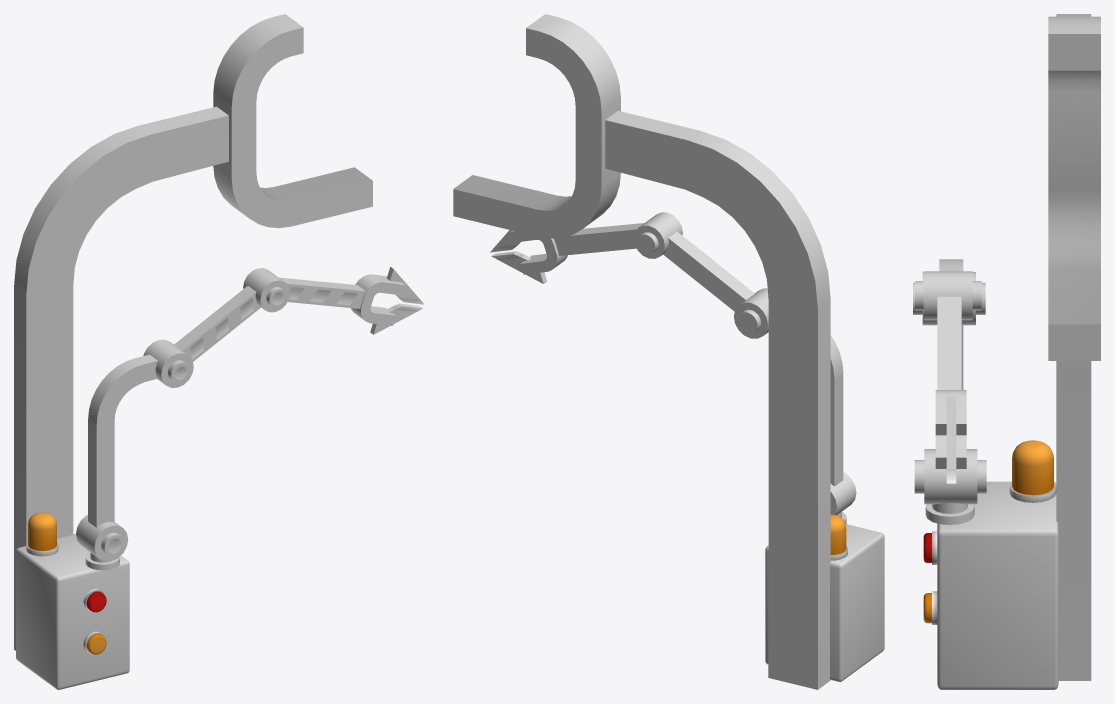
File: baby_boss_cevre_modelleri_robotkol.fbx
3 views of the same model, side by side, from view 1: azimuth 30°, elevation 25°; view 2: azimuth 150°, elevation 25°; view 3: azimuth 270°, elevation 25° (orthographic). The views are drawn at different scales.
Visible parts, largest first — view 1: baby_boss_robot_tabela, baby_boss_robot_kutu, baby_boss_robot_kol.002, baby_boss_robot_kol.005, baby_boss_robot_kol_yuvarlak.002, baby_boss_robot_kol, baby_boss_robot_kol_yuvarlak.001, baby_boss_robot_kol.003, baby_boss_robot_kol_yuvarlak, baby_boss_robot_siren; view 2: baby_boss_robot_tabela, baby_boss_robot_kutu, baby_boss_robot_kol.005, baby_boss_robot_kol, baby_boss_robot_kol.002, baby_boss_robot_kol_yuvarlak, baby_boss_robot_kol_yuvarlak.001, baby_boss_robot_kol.003, baby_boss_robot_kol_yuvarlak.002, baby_boss_robot_siren; view 3: baby_boss_robot_tabela, baby_boss_robot_kutu, baby_boss_robot_kol_yuvarlak.002, baby_boss_robot_siren, baby_boss_robot_kol_yuvarlak, baby_boss_robot_kol, baby_boss_robot_kol.003, baby_boss_robot_kol_kıskac1, baby_boss_robot_kol_yuvarlak.001, baby_boss_robot_kol.002, baby_boss_robot_dugme2, baby_boss_robot_dugme1.
Part boxes in pixels (x1=…): baby_boss_robot_tabela: x1=14, y1=14, x2=372, y2=650; baby_boss_robot_kutu: x1=16, y1=534, x2=129, y2=689; baby_boss_robot_kol.002: x1=88, y1=354, x2=157, y2=527; baby_boss_robot_kol.005: x1=174, y1=286, x2=260, y2=361; baby_boss_robot_kol_yuvarlak.002: x1=76, y1=514, x2=128, y2=570; baby_boss_robot_kol: x1=279, y1=277, x2=365, y2=308; baby_boss_robot_kol_yuvarlak.001: x1=143, y1=339, x2=193, y2=387; baby_boss_robot_kol.003: x1=351, y1=274, x2=405, y2=325; baby_boss_robot_kol_yuvarlak: x1=243, y1=268, x2=290, y2=312; baby_boss_robot_siren: x1=26, y1=512, x2=58, y2=556; baby_boss_robot_tabela: x1=453, y1=14, x2=830, y2=689; baby_boss_robot_kutu: x1=765, y1=524, x2=884, y2=681; baby_boss_robot_kol.005: x1=663, y1=231, x2=754, y2=311; baby_boss_robot_kol: x1=554, y1=223, x2=644, y2=255; baby_boss_robot_kol.002: x1=830, y1=335, x2=843, y2=486; baby_boss_robot_kol_yuvarlak: x1=633, y1=212, x2=682, y2=258; baby_boss_robot_kol_yuvarlak.001: x1=734, y1=288, x2=768, y2=338; baby_boss_robot_kol.003: x1=510, y1=230, x2=567, y2=274; baby_boss_robot_kol_yuvarlak.002: x1=830, y1=472, x2=856, y2=524; baby_boss_robot_siren: x1=830, y1=514, x2=847, y2=560; baby_boss_robot_tabela: x1=1048, y1=14, x2=1100, y2=680; baby_boss_robot_kutu: x1=937, y1=481, x2=1058, y2=689; baby_boss_robot_kol_yuvarlak.002: x1=914, y1=449, x2=986, y2=524; baby_boss_robot_siren: x1=1009, y1=440, x2=1056, y2=502; baby_boss_robot_kol_yuvarlak: x1=915, y1=271, x2=981, y2=320; baby_boss_robot_kol: x1=937, y1=296, x2=961, y2=389; baby_boss_robot_kol.003: x1=935, y1=390, x2=966, y2=468; baby_boss_robot_kol_kıskac1: x1=946, y1=396, x2=956, y2=479; baby_boss_robot_kol_yuvarlak.001: x1=913, y1=272, x2=985, y2=325; baby_boss_robot_kol.002: x1=939, y1=259, x2=963, y2=389; baby_boss_robot_dugme2: x1=923, y1=591, x2=937, y2=624; baby_boss_robot_dugme1: x1=923, y1=531, x2=937, y2=564.
Bounding box in the file's own units: 1.57 × 2.29 × 0.4853.
